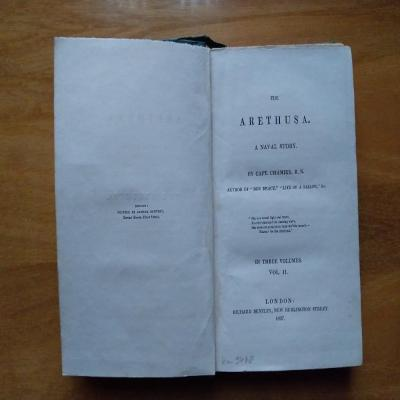rare_books: (53, 37, 364, 383)
